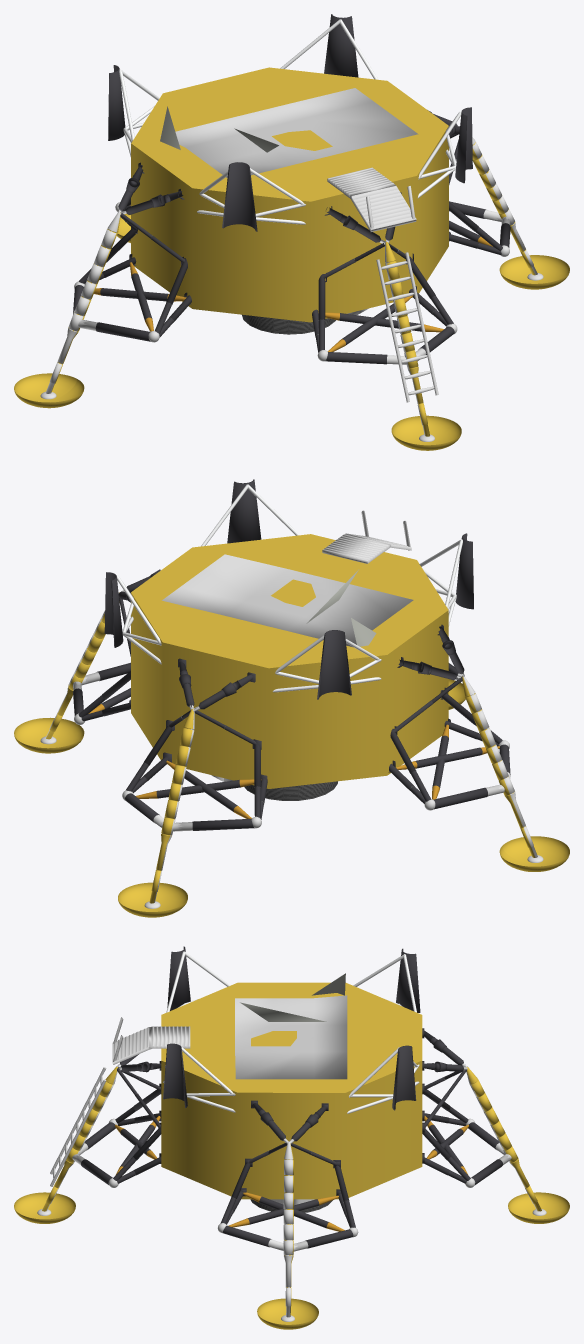
File: lunar-module-descent.glb
The picture shows the model from 3 angles, top to bottom: view 1: azimuth 30°, elevation 25°; view 2: azimuth 150°, elevation 25°; view 3: azimuth 270°, elevation 25°; orthographic projection. The views are drawn at different scales.
Parts seen in each view (by area): view 1: descent; view 2: descent; view 3: descent.
Part boxes in pixels (<box>): descent: <box>14,14,569,450</box>; descent: <box>14,479,569,917</box>; descent: <box>14,946,569,1329</box>.
Size of the model in its own units: 9.01 by 3.96 by 9.01.
Materials: 1 (1 with a texture image).
